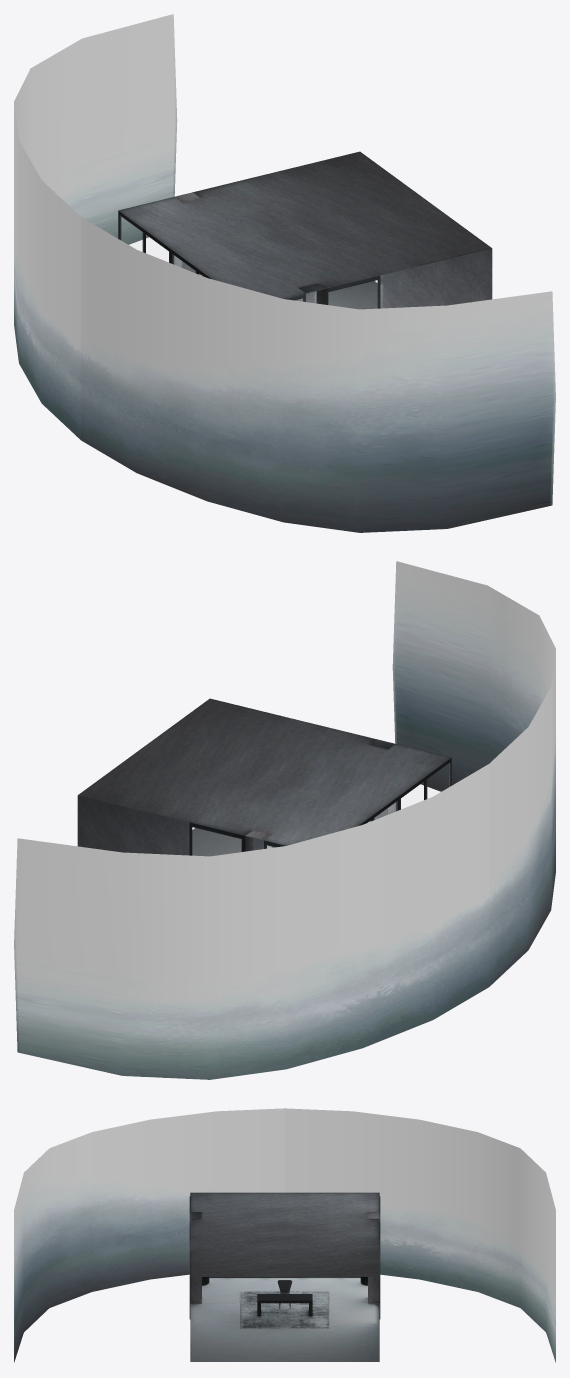
Rendered from room-office-minimal.glb.
3 renders of one model, top to bottom at view 1: azimuth 30°, elevation 25°; view 2: azimuth 150°, elevation 25°; view 3: azimuth 270°, elevation 25°, orthographic. The views are drawn at different scales.
Parts seen in each view (by area): view 1: Minimalistic_Modern_Office_Background_0, Minimalistic_Modern_Office_Structure_0; view 2: Minimalistic_Modern_Office_Background_0, Minimalistic_Modern_Office_Structure_0; view 3: Minimalistic_Modern_Office_Background_0, Minimalistic_Modern_Office_Structure_0, Carpet_Carpet_0, Minimalistic_Modern_Office_Table_0.
Part boxes in pixels (left/top/right/bottom): Minimalistic_Modern_Office_Background_0: left=14, top=14, right=555, bottom=532; Minimalistic_Modern_Office_Structure_0: left=118, top=151, right=492, bottom=309; Minimalistic_Modern_Office_Background_0: left=14, top=561, right=555, bottom=1079; Minimalistic_Modern_Office_Structure_0: left=77, top=698, right=451, bottom=856; Minimalistic_Modern_Office_Background_0: left=14, top=1108, right=555, bottom=1362; Minimalistic_Modern_Office_Structure_0: left=189, top=1192, right=380, bottom=1361; Carpet_Carpet_0: left=241, top=1291, right=328, bottom=1328; Minimalistic_Modern_Office_Table_0: left=257, top=1294, right=312, bottom=1316.
Bounding box in the file's own units: 2.63 × 1.63 × 5.
Materials: 9 (7 with a texture image).
